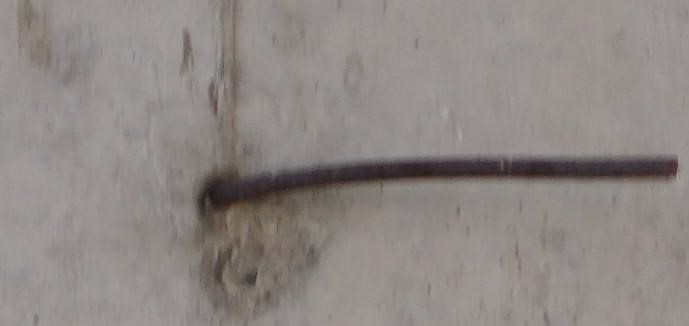Exposed reinforcement: (207, 150, 680, 215)
Spalling: (193, 213, 340, 319)
